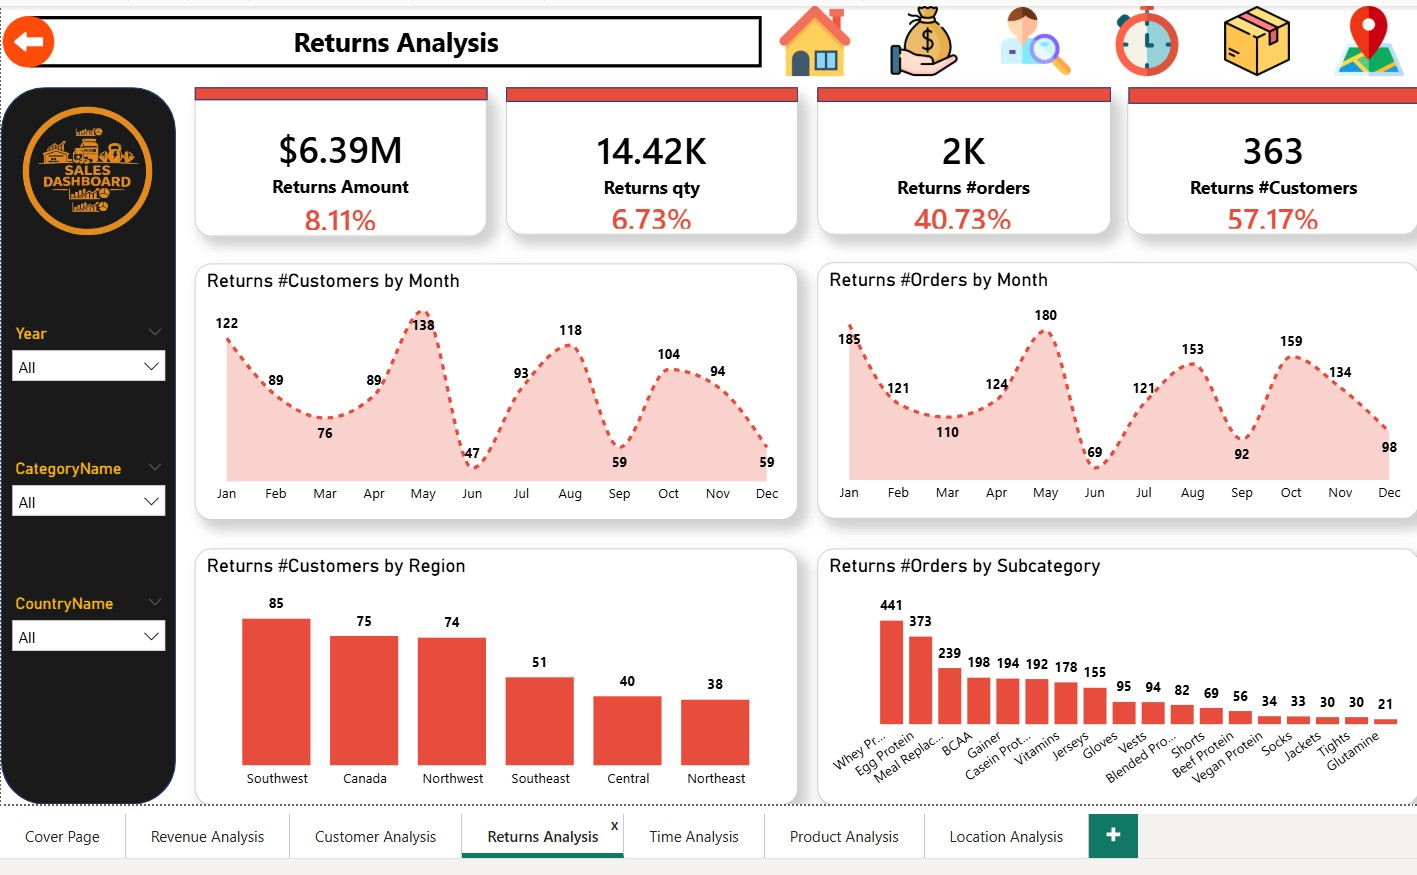

This screenshot's page, from the dashboard's own definition file:
{"tool":"powerbi","page":{"name":"Returns Analysis","canvas":[1280,720],"ordinal":3},"visuals":[{"type":"group","id":"g1","title":"Group 1","box":[174.1,73.2,264.2,134.6],"z":0},{"type":"group","id":"g2","title":"Group 2","box":[736.1,73,265.4,133],"z":1000},{"type":"group","id":"g3","title":"Group 3","box":[455.1,73,263.9,133],"z":2000},{"type":"cardVisual","fields":{"Data":["Retuens Measures.Returns #orders"]},"box":[736.1,73,264.9,133],"z":3000,"group":"g2"},{"type":"group","id":"g4","title":"Group 2","box":[1015.6,73,264.9,133],"z":3000},{"type":"cardVisual","fields":{"Data":["Retuens Measures.Returns #Customers"]},"box":[1015.6,73,264.1,133],"z":3000,"group":"g4"},{"type":"cardVisual","fields":{"Data":["Retuens Measures.Returns Amount"]},"box":[174.1,73.2,263.4,134.6],"z":3000,"group":"g1"},{"type":"lineChart","title":"Returns #Customers by Month","fields":{"Y":["Retuens Measures.Returns #Customers"],"Category":["Calendar Table.Month Name"]},"box":[174.1,232.7,544.4,231.2],"z":4000},{"type":"clusteredColumnChart","title":"Returns #Orders by Subcategory","fields":{"Category":["Product.SubcategoryName"],"Y":["Retuens Measures.Returns #orders"]},"box":[736.1,488.8,544.4,231.2],"z":5000},{"type":"shape","box":[0,73.4,157.7,646.9],"z":6000},{"type":"slicer","fields":{"Values":["Product.CategoryName"]},"box":[0,403.5,158,64.4],"z":7000},{"type":"slicer","fields":{"Values":["Customers.CountryName"]},"box":[0,525,158,64.4],"z":8000},{"type":"slicer","fields":{"Values":["Calendar Table.Year"]},"box":[0,282,158,64.4],"z":9000},{"type":"cardVisual","fields":{"Data":["Retuens Measures.%Returns Amount"]},"box":[229.8,161,152.2,58.5],"z":10000},{"type":"cardVisual","fields":{"Data":["Retuens Measures.%Returns #Customers"]},"box":[1071.2,160,152.2,58.5],"z":11000},{"type":"cardVisual","fields":{"Data":["Retuens Measures.Returns qty"]},"box":[455.6,73,263.4,133],"z":11001,"group":"g3"},{"type":"shape","box":[174.3,73.2,264,11.7],"z":11002,"group":"g1"},{"type":"shape","box":[736.6,73,264.9,13.3],"z":11005,"group":"g2"},{"type":"shape","box":[1016.3,73,264.1,15],"z":11005,"group":"g4"},{"type":"shape","box":[455.1,73,263.4,13.3],"z":11008,"group":"g3"},{"type":"cardVisual","fields":{"Data":["Retuens Measures.%Returns #orders"]},"box":[790.7,160,152.2,58.5],"z":12000},{"type":"cardVisual","fields":{"Data":["Retuens Measures.%Returns qty"]},"box":[510.2,160,152.2,58.5],"z":13000},{"type":"lineChart","title":"Returns #Orders by Month","fields":{"Category":["Calendar Table.Month Name"],"Y":["Retuens Measures.Returns #orders"]},"box":[736.1,231.2,544.4,231.2],"z":14000},{"type":"clusteredColumnChart","title":"Returns #Customers by Region","fields":{"Category":["Customers.Region"],"Y":["Retuens Measures.Returns #Customers"]},"box":[174.1,488.8,544.4,231.2],"z":15000},{"type":"image","box":[0,74.6,158,149.3],"z":16000},{"type":"image","box":[687,0,92.9,63.6],"z":17000},{"type":"image","box":[787,0,91,63],"z":18000},{"type":"image","box":[987,0,92,63],"z":19000},{"type":"image","box":[1087,0,92,63.6],"z":20000},{"type":"image","box":[1187.1,0,92.9,63.6],"z":21000},{"type":"image","box":[887,0,91.7,63.6],"z":22000},{"type":"actionButton","box":[25.7,8.6,660.3,46.5],"z":23000},{"type":"image","box":[0,8.6,50.1,46.5],"z":24000}]}

Visuals, with their boxes on the page's 1280x720 design canvas (x1, y1, x2, y2). These are canvas units, not pixel positions in the 1417x875 screenshot, which may show the page scaled, cropped or inside an application window:
"Group 1" group: <region>174, 73, 438, 208</region>
"Group 2" group: <region>736, 73, 1002, 206</region>
"Group 3" group: <region>455, 73, 719, 206</region>
cardVisual - Retuens Measures.Returns #orders: <region>736, 73, 1001, 206</region>
"Group 2" group: <region>1016, 73, 1280, 206</region>
cardVisual - Retuens Measures.Returns #Customers: <region>1016, 73, 1280, 206</region>
cardVisual - Retuens Measures.Returns Amount: <region>174, 73, 438, 208</region>
"Returns #Customers by Month" lineChart: <region>174, 233, 718, 464</region>
"Returns #Orders by Subcategory" clusteredColumnChart: <region>736, 489, 1280, 720</region>
shape: <region>0, 73, 158, 720</region>
slicer - Product.CategoryName: <region>0, 404, 158, 468</region>
slicer - Customers.CountryName: <region>0, 525, 158, 589</region>
slicer - Calendar Table.Year: <region>0, 282, 158, 346</region>
cardVisual - Retuens Measures.%Returns Amount: <region>230, 161, 382, 220</region>
cardVisual - Retuens Measures.%Returns #Customers: <region>1071, 160, 1223, 218</region>
cardVisual - Retuens Measures.Returns qty: <region>456, 73, 719, 206</region>
shape: <region>174, 73, 438, 85</region>
shape: <region>737, 73, 1002, 86</region>
shape: <region>1016, 73, 1280, 88</region>
shape: <region>455, 73, 718, 86</region>
cardVisual - Retuens Measures.%Returns #orders: <region>791, 160, 943, 218</region>
cardVisual - Retuens Measures.%Returns qty: <region>510, 160, 662, 218</region>
"Returns #Orders by Month" lineChart: <region>736, 231, 1280, 462</region>
"Returns #Customers by Region" clusteredColumnChart: <region>174, 489, 718, 720</region>
image: <region>0, 75, 158, 224</region>
image: <region>687, 0, 780, 64</region>
image: <region>787, 0, 878, 63</region>
image: <region>987, 0, 1079, 63</region>
image: <region>1087, 0, 1179, 64</region>
image: <region>1187, 0, 1280, 64</region>
image: <region>887, 0, 979, 64</region>
actionButton: <region>26, 9, 686, 55</region>
image: <region>0, 9, 50, 55</region>
